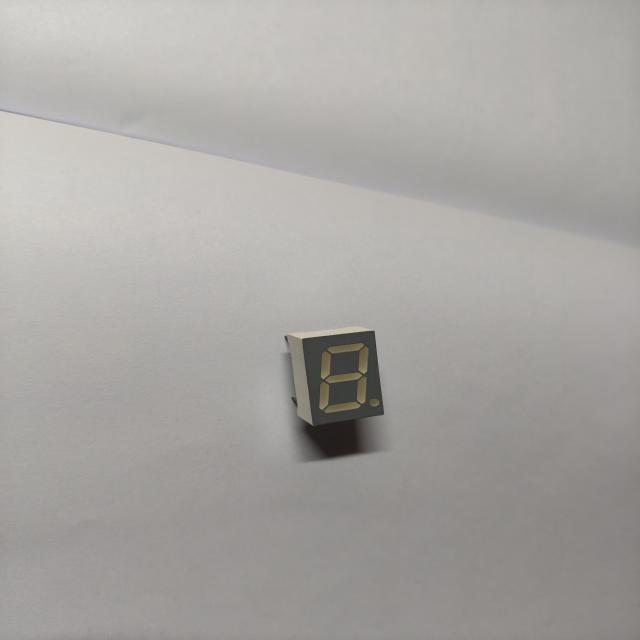sevensegment: (266, 310, 408, 431)
